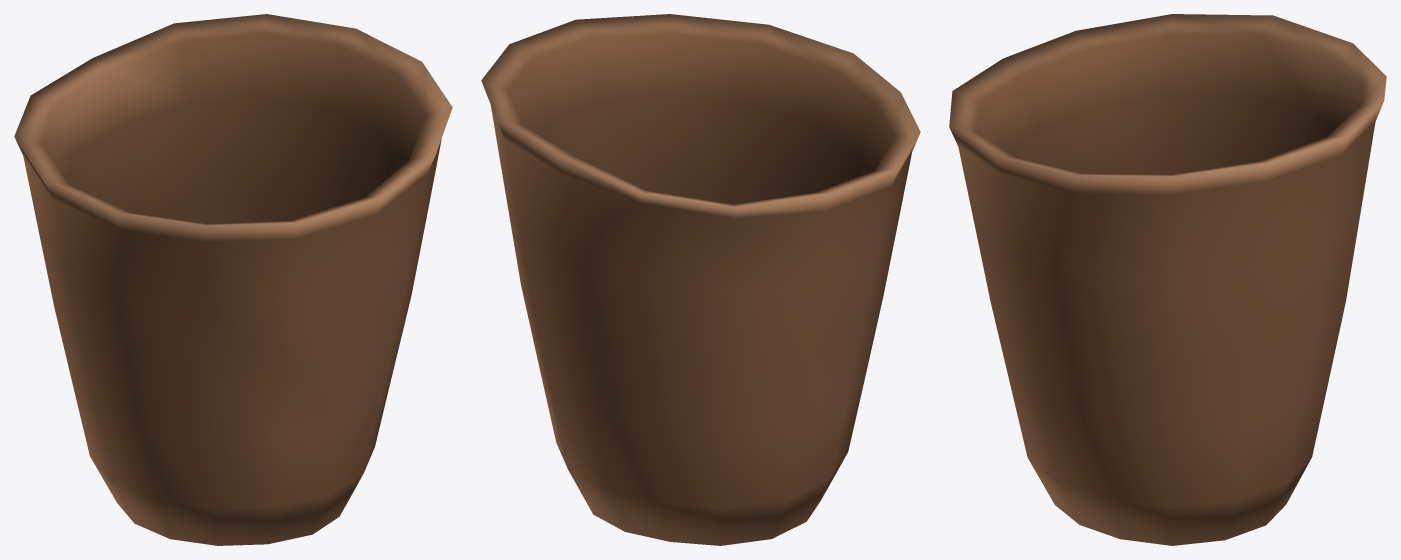
The model's file is pot_kulhad_v2.glb.
3 views of the same model, side by side, from view 1: azimuth 30°, elevation 25°; view 2: azimuth 150°, elevation 25°; view 3: azimuth 270°, elevation 25° (orthographic). The views are drawn at different scales.
Parts seen in each view (by area): view 1: hb_main; view 2: hb_main; view 3: hb_main.
Boxes of the visible parts, bbox=[...] form: hb_main: bbox=[14, 14, 452, 545]; hb_main: bbox=[481, 14, 920, 545]; hb_main: bbox=[949, 14, 1386, 545].
Bounding box in the file's own units: 0.0993 × 0.0997 × 0.0948.
